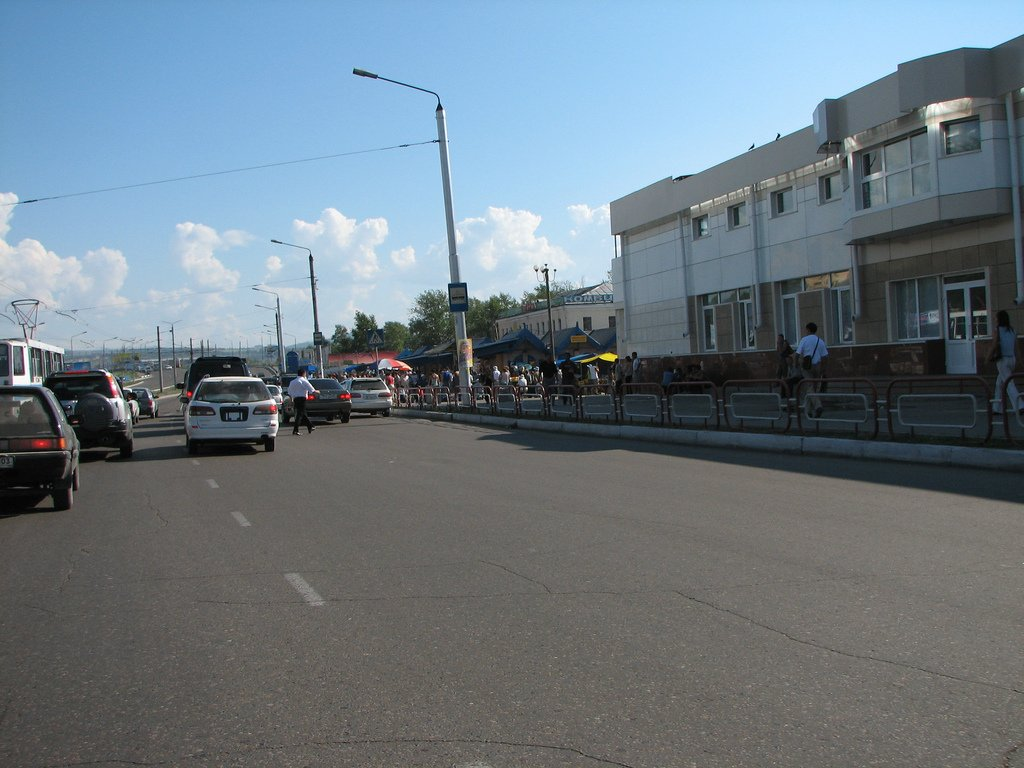sign: (446, 281, 472, 315), (365, 327, 386, 348), (312, 331, 324, 346)
